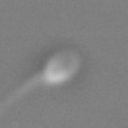normal: (1, 72, 43, 119)
